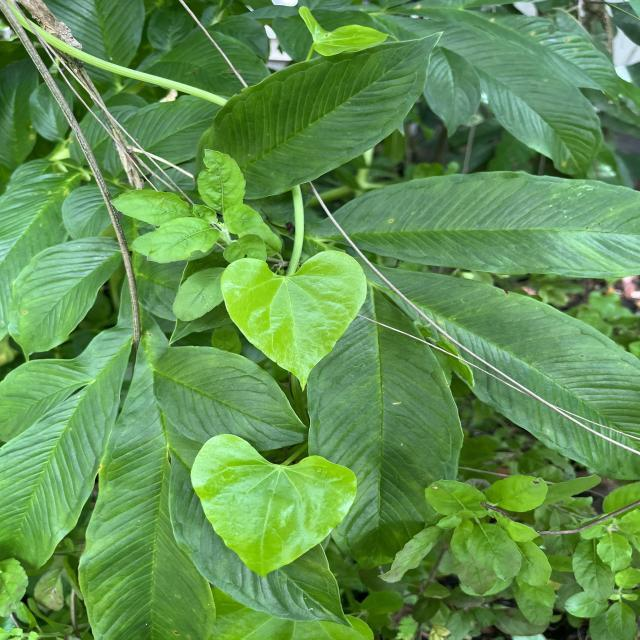Tinospora cordifolia: (189, 432, 359, 581), (220, 248, 368, 394)
